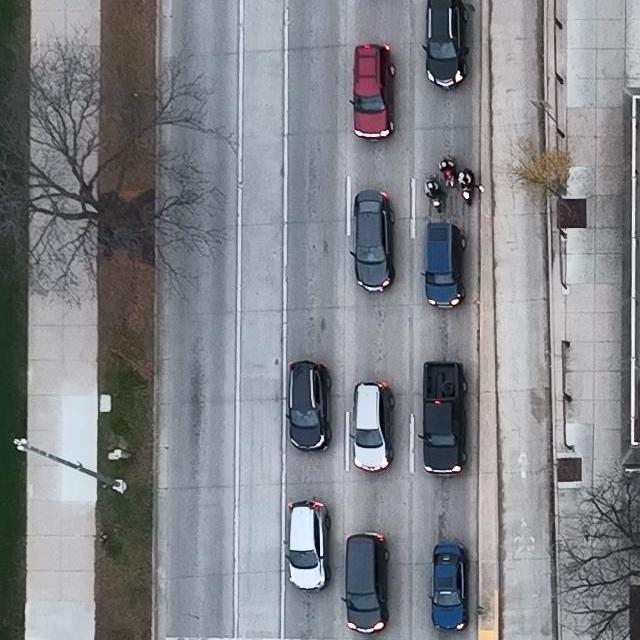car: (416, 360, 470, 477), (340, 534, 389, 633), (349, 190, 395, 292), (348, 44, 396, 141), (421, 0, 470, 91), (349, 379, 395, 475), (284, 499, 330, 590), (286, 361, 331, 454), (419, 223, 466, 309), (427, 541, 469, 632)
